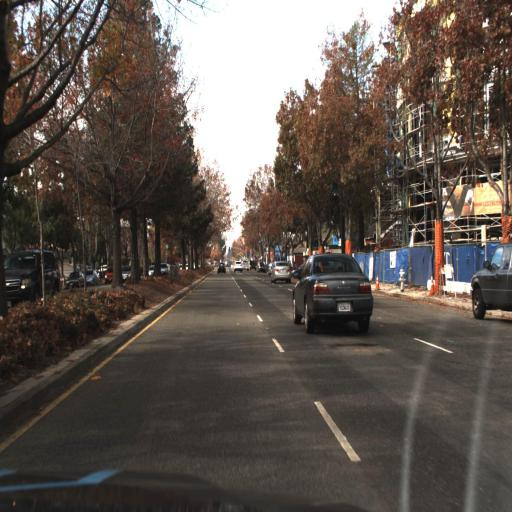car: (290, 250, 377, 340), (0, 249, 62, 303), (471, 244, 512, 321), (270, 257, 293, 287), (102, 265, 118, 286), (231, 257, 244, 277), (215, 257, 227, 278)
